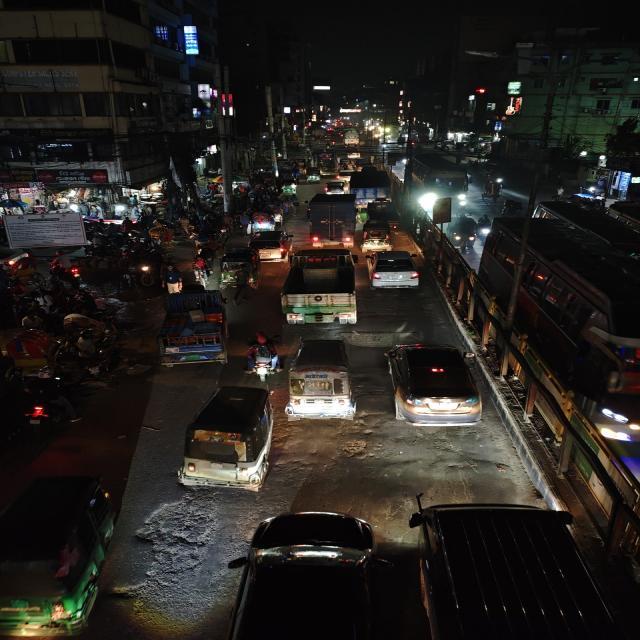bus: (492, 215, 640, 406), (409, 152, 470, 208), (604, 199, 640, 266)
car: (407, 496, 631, 640), (220, 506, 393, 640), (382, 339, 484, 427), (363, 249, 422, 293), (248, 229, 294, 261), (321, 181, 349, 194), (336, 170, 352, 182)
cng: (0, 472, 115, 640), (172, 383, 279, 495), (218, 248, 260, 289), (446, 217, 480, 253), (361, 218, 393, 252), (304, 166, 323, 184)
motorcycle: (18, 378, 77, 434), (243, 329, 280, 381), (83, 348, 129, 388), (159, 264, 184, 294), (190, 252, 213, 280), (476, 212, 492, 242)
pickup_van: (153, 302, 230, 369), (349, 166, 392, 206)
rickshaw: (171, 383, 281, 495), (284, 335, 359, 423), (2, 332, 61, 382), (479, 172, 504, 205)
truck: (276, 248, 361, 328), (306, 192, 359, 248)
